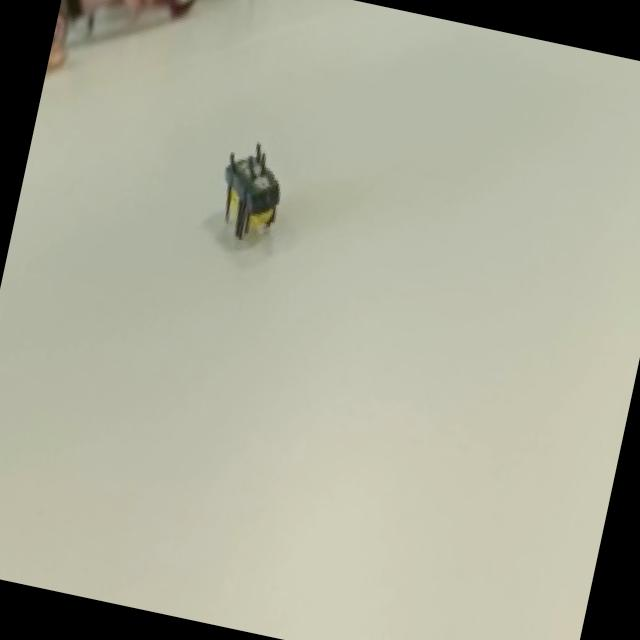6_NanoBug_GrisOscuro: (194, 101, 317, 302)
